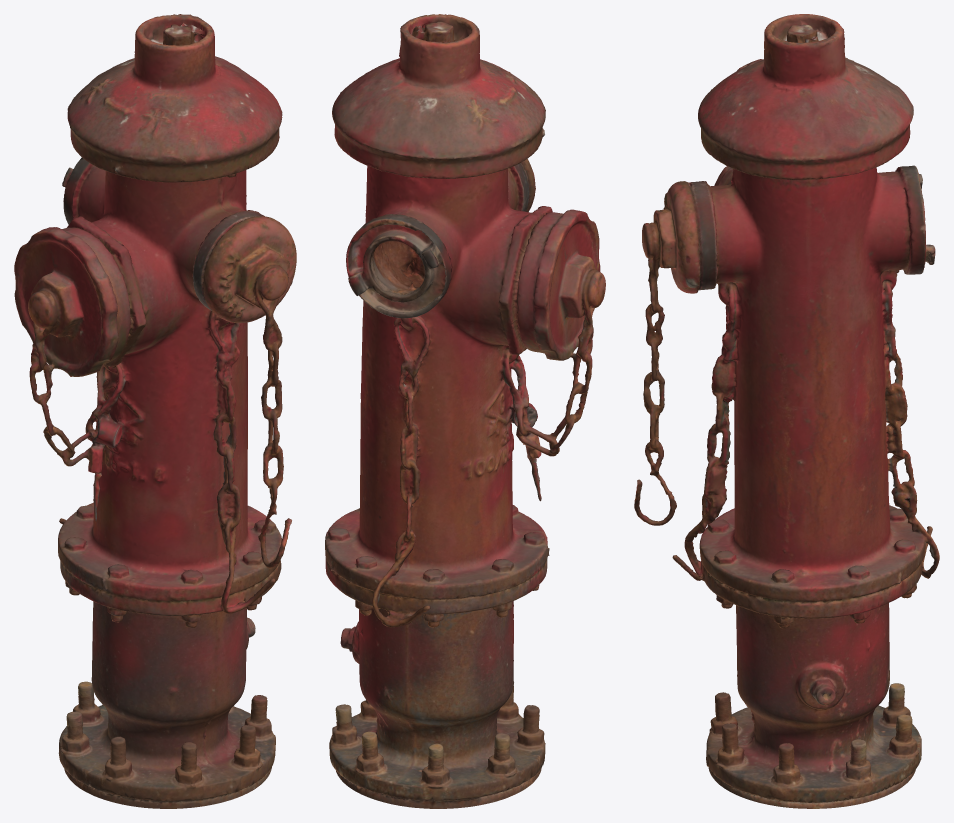
Rendered from PX_Fire_Hydrant_01_LOD0.fbx.
3 renders of one model, left to right at view 1: azimuth 30°, elevation 25°; view 2: azimuth 150°, elevation 25°; view 3: azimuth 270°, elevation 25°, orthographic.
Parts seen in each view (by area): view 1: PX_Fire_Hydrant_01_LOD0; view 2: PX_Fire_Hydrant_01_LOD0; view 3: PX_Fire_Hydrant_01_LOD0.
Boxes of the visible parts, bbox=[...] form: PX_Fire_Hydrant_01_LOD0: bbox=[14, 14, 296, 808]; PX_Fire_Hydrant_01_LOD0: bbox=[325, 14, 605, 808]; PX_Fire_Hydrant_01_LOD0: bbox=[634, 14, 939, 808].
Size of the model in its own units: 27.47 by 77.91 by 29.23.
